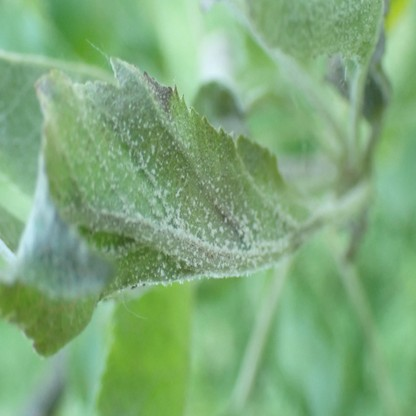powder: (2, 55, 318, 355), (249, 0, 379, 54)
